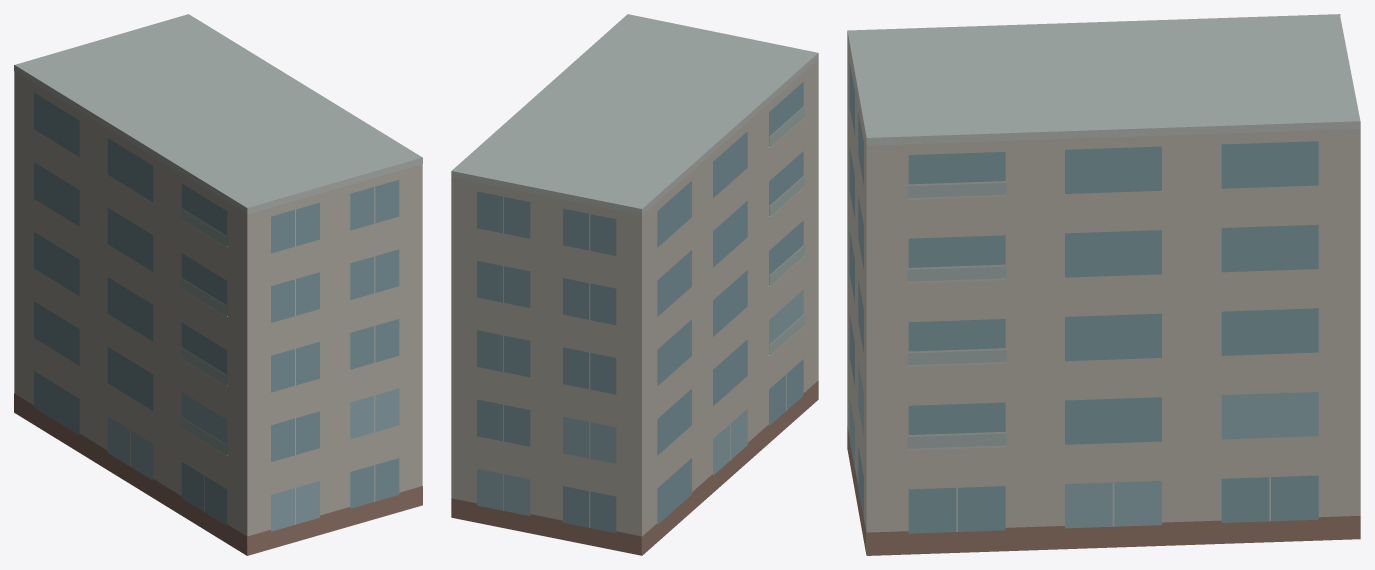
The model's file is survey-upis-32997675.glb.
The picture shows the model from 3 angles, left to right: view 1: azimuth 30°, elevation 25°; view 2: azimuth 150°, elevation 25°; view 3: azimuth 270°, elevation 25°; orthographic projection. The views are drawn at different scales.
Parts seen in each view (by area): view 1: survey-upis-32997675.tmp; view 2: survey-upis-32997675.tmp; view 3: survey-upis-32997675.tmp.
Part boxes in pixels (box(x1,y1,x2,y2)): survey-upis-32997675.tmp: box(14, 14, 422, 555); survey-upis-32997675.tmp: box(451, 14, 818, 555); survey-upis-32997675.tmp: box(847, 14, 1360, 555).
Size of the model in its own units: 8.41 by 13.2 by 14.7.
